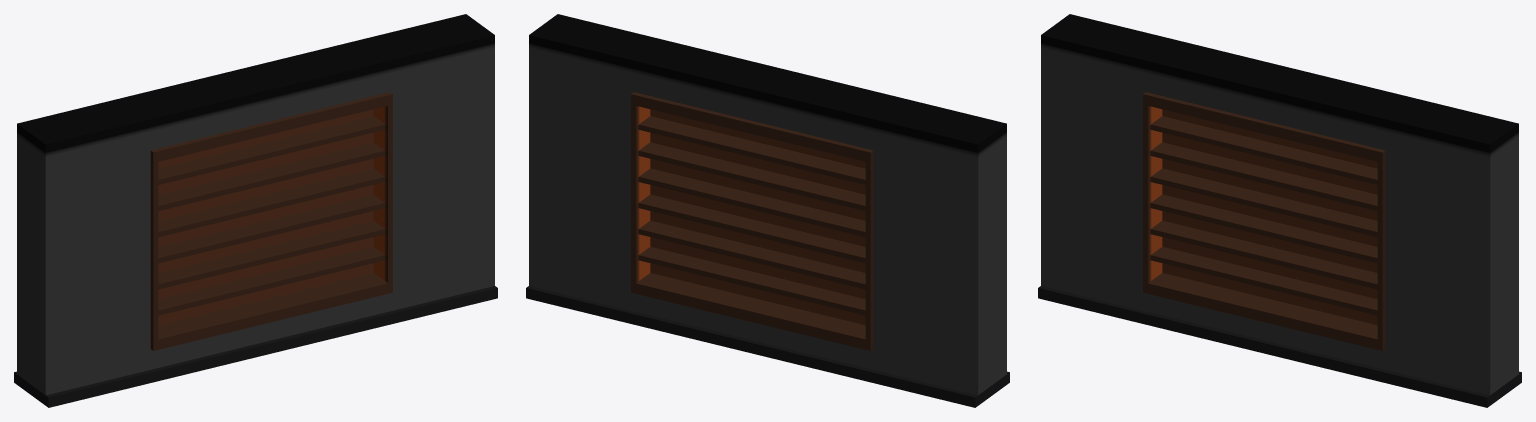
Rendered from Wall-Stone-Model-08.fbx.
3 renders of one model, left to right at view 1: azimuth 30°, elevation 25°; view 2: azimuth 150°, elevation 25°; view 3: azimuth 330°, elevation 25°, orthographic.
Visible parts, largest first — view 1: Wall-Stone-Model-08; view 2: Wall-Stone-Model-08; view 3: Wall-Stone-Model-08.
Boxes of the visible parts, x1,y1,x2,y2 form: Wall-Stone-Model-08: (14, 14, 497, 407); Wall-Stone-Model-08: (526, 14, 1009, 407); Wall-Stone-Model-08: (1038, 14, 1521, 407).
Size of the model in its own units: 90 by 50 by 12.
Materials: 1 (1 with a texture image).
